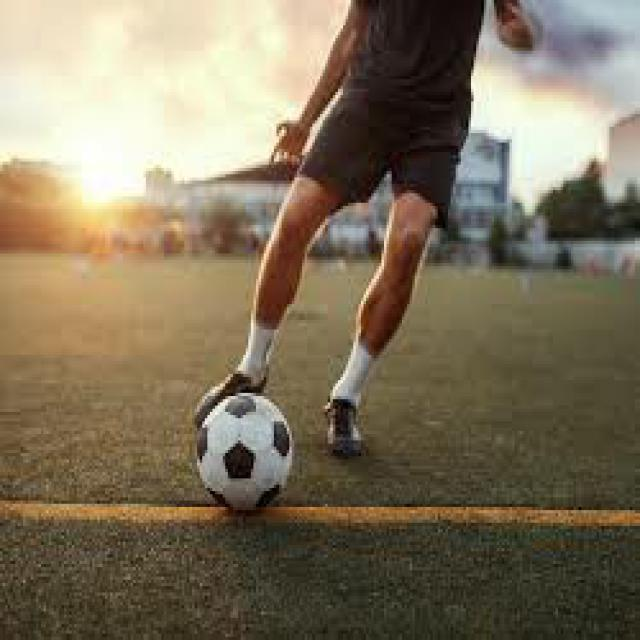ball: (192, 386, 296, 518)
